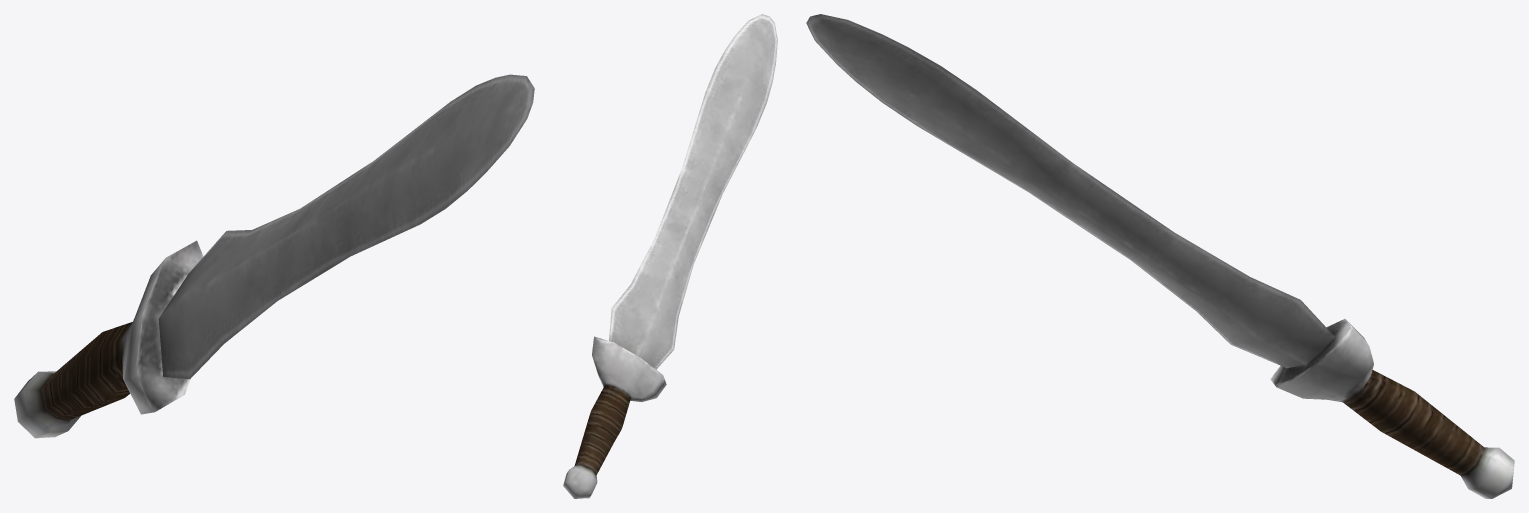
Rendered from weapon-base.glb.
3 views of the same model, side by side, from view 1: azimuth 30°, elevation 25°; view 2: azimuth 150°, elevation 25°; view 3: azimuth 270°, elevation 25° (orthographic). The views are drawn at different scales.
Bounding box in the file's own units: 0.0897 × 0.4683 × 0.5929.
1 material, 1 textured.
